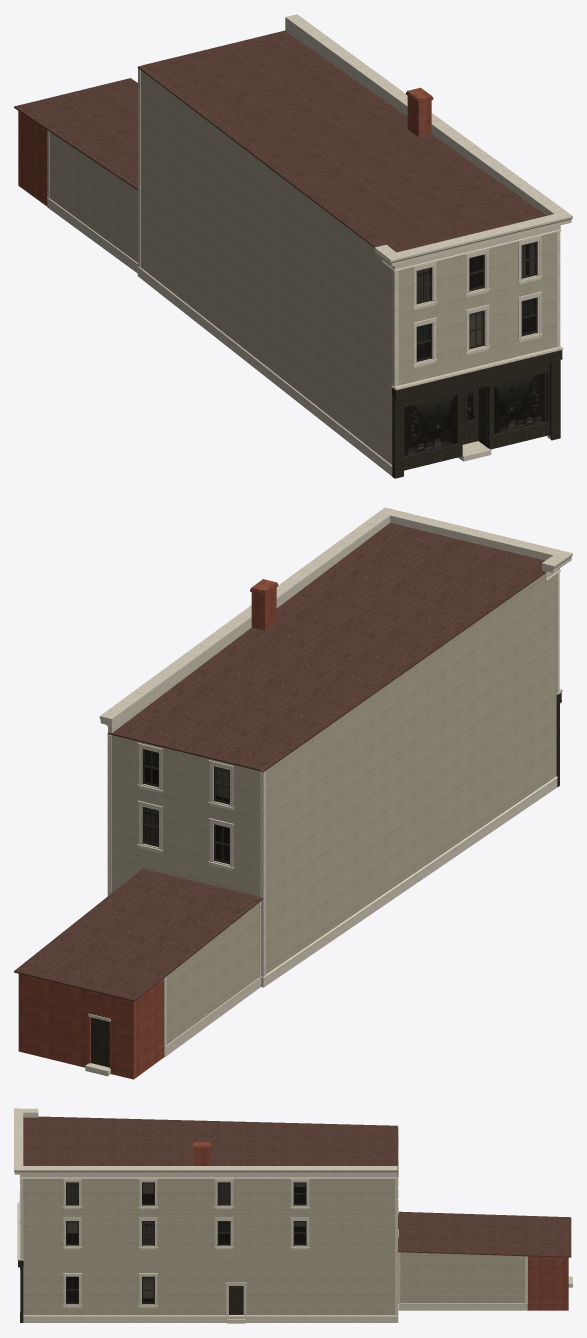
The model's file is store-79.glb.
3 renders of one model, top to bottom at view 1: azimuth 30°, elevation 25°; view 2: azimuth 150°, elevation 25°; view 3: azimuth 270°, elevation 25°, orthographic. The views are drawn at different scales.
Visible parts, largest first — view 1: Store79; view 2: Store79; view 3: Store79.
Boxes of the visible parts, x1,y1,x2,y2 form: Store79: (14,14,572,478); Store79: (14,507,572,1079); Store79: (14,1108,572,1323).
Size of the model in its own units: 8.47 by 11.2 by 32.43.
8 materials, 7 textured.
